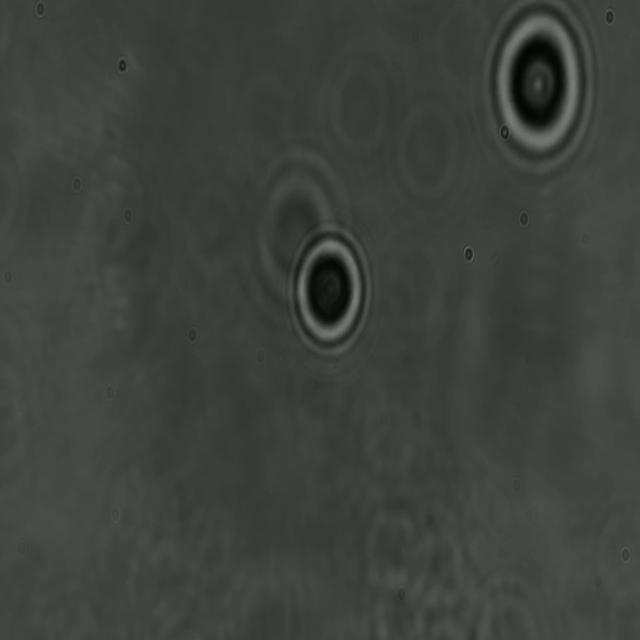DCELL: (282, 220, 378, 356)
LCELL: (481, 0, 604, 181)
